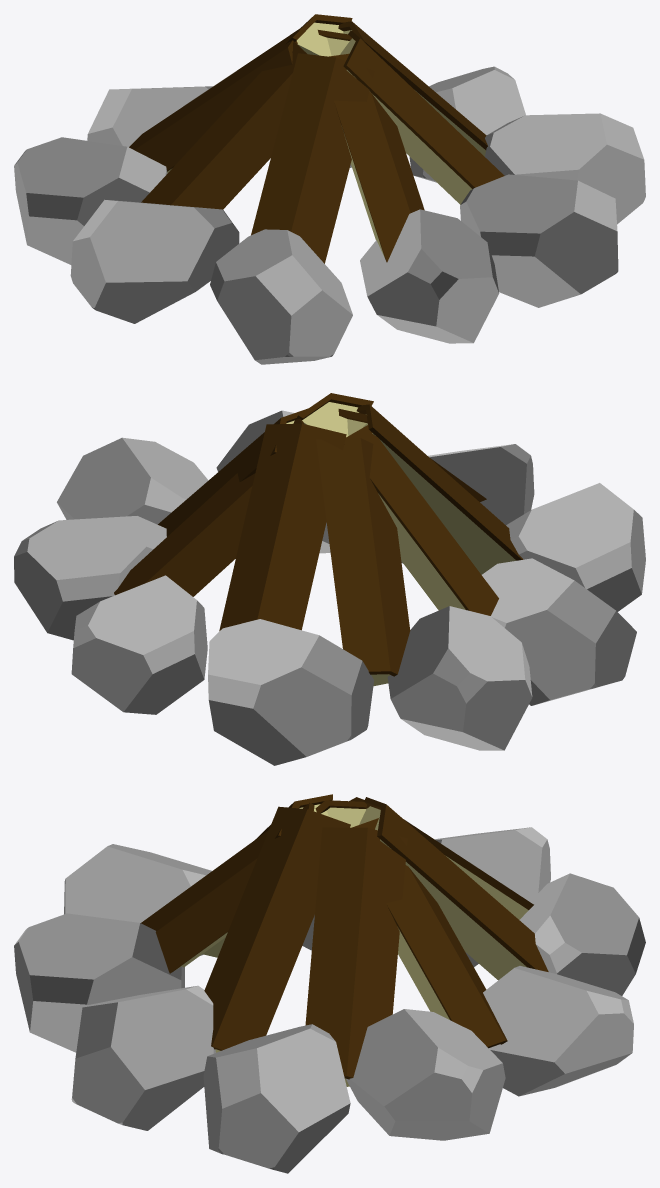
Rendered from campfire.fbx.
The picture shows the model from 3 angles, top to bottom: view 1: azimuth 30°, elevation 25°; view 2: azimuth 150°, elevation 25°; view 3: azimuth 270°, elevation 25°; orthographic projection. The views are drawn at different scales.
Parts seen in each view (by area): view 1: Cube.001; view 2: Cube.001; view 3: Cube.001.
Boxes of the visible parts, x1=… form: Cube.001: x1=14, y1=14, x2=645, y2=364; Cube.001: x1=14, y1=393, x2=645, y2=765; Cube.001: x1=14, y1=794, x2=645, y2=1173.
Bounding box in the file's own units: 546 × 230 × 514.
